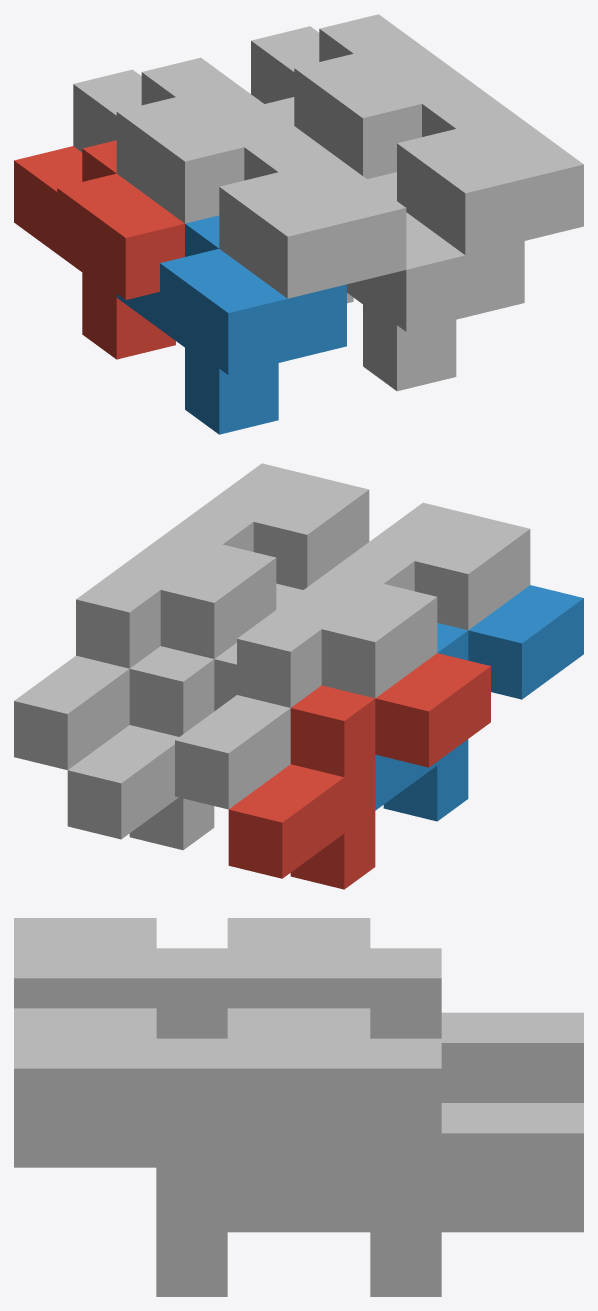
File: tiling.obj
The picture shows the model from 3 angles, top to bottom: view 1: azimuth 30°, elevation 25°; view 2: azimuth 150°, elevation 25°; view 3: azimuth 270°, elevation 25°; orthographic projection. The views are drawn at different scales.
Parts seen in each view (by area): view 1: copy_1_domain_2, copy_1_domain_4, copy_1_domain_8, copy_1_domain_3, copy_1_domain_1, copy_1_domain_7, copy_1_domain_6; view 2: copy_1_domain_1, copy_1_domain_3, copy_1_domain_7, copy_1_domain_5, copy_1_domain_2, copy_1_domain_4, copy_1_domain_8; view 3: copy_1_domain_7, copy_1_domain_8, copy_1_domain_3, copy_1_domain_4, copy_1_domain_6, copy_1_domain_5.
Part boxes in pixels (x1,y1,x2,y2): copy_1_domain_2: (116, 215, 346, 434); copy_1_domain_4: (219, 133, 406, 298); copy_1_domain_8: (397, 89, 583, 255); copy_1_domain_3: (73, 57, 303, 223); copy_1_domain_1: (14, 140, 184, 359); copy_1_domain_7: (251, 14, 480, 178); copy_1_domain_6: (347, 172, 524, 391); copy_1_domain_1: (228, 653, 490, 889); copy_1_domain_3: (175, 570, 437, 809); copy_1_domain_7: (14, 531, 276, 770); copy_1_domain_5: (67, 643, 236, 850); copy_1_domain_2: (375, 585, 583, 821); copy_1_domain_4: (330, 502, 530, 630); copy_1_domain_8: (169, 463, 369, 589); copy_1_domain_7: (227, 1008, 583, 1262); copy_1_domain_8: (14, 1008, 370, 1262); copy_1_domain_3: (227, 918, 583, 1102); copy_1_domain_4: (14, 918, 227, 1038); copy_1_domain_6: (14, 1133, 370, 1296); copy_1_domain_5: (370, 1198, 583, 1296).
Bounding box in the file's own units: 6 × 4 × 8.
